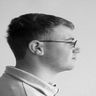ear: (22, 35, 47, 60)
